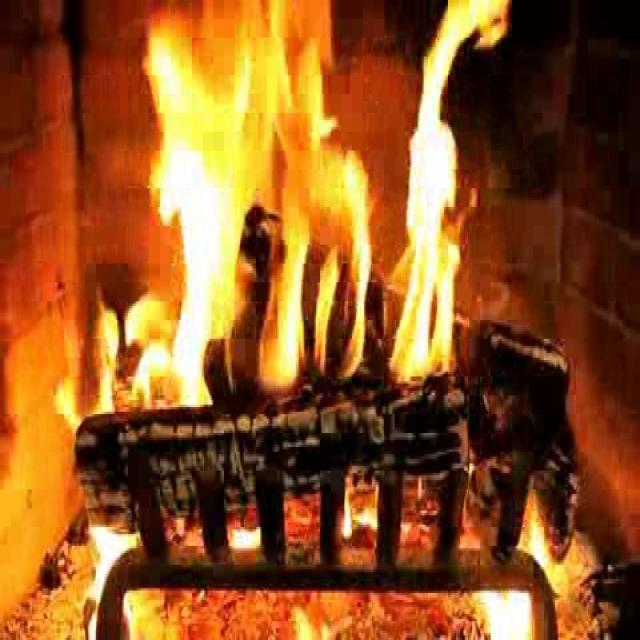fire: (134, 4, 468, 378)
